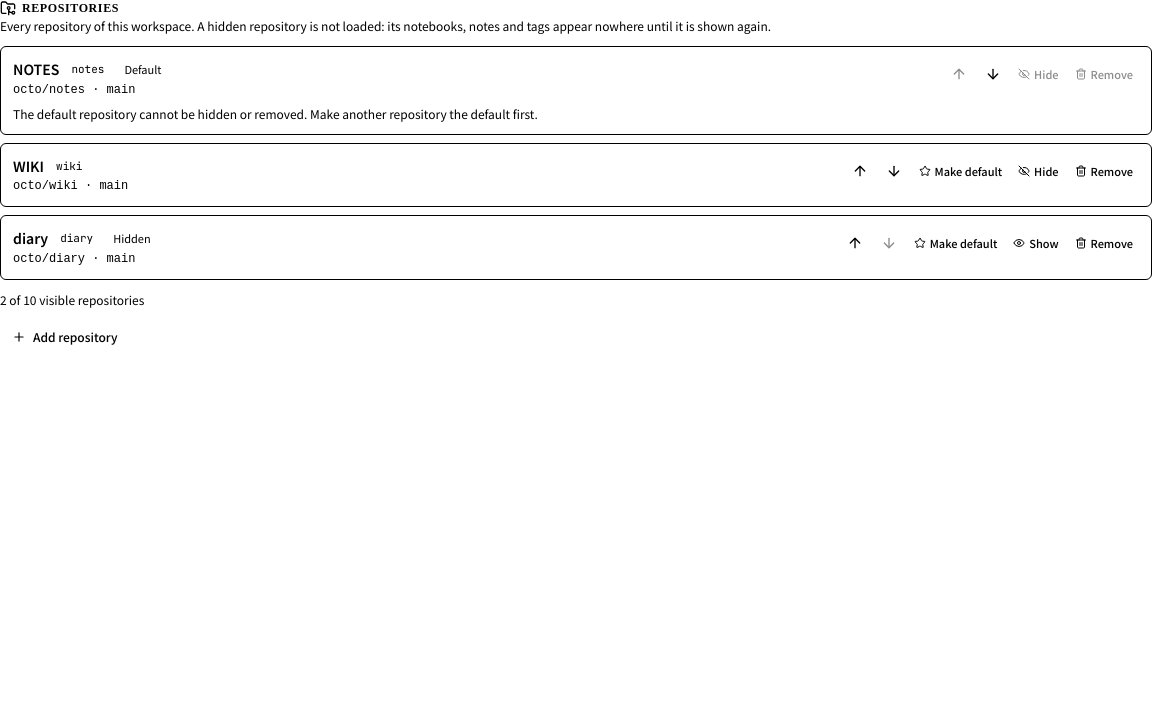
Test: a list an account keeps › adds a repository from the picker, marking members already added, and asks for a folder when its branch keeps no manifest
This screenshot has width=1152, height=720.
Expected: the text "NOTES" is shown, [13, 59, 59, 79]
Click the button "Add repository". click: (65, 336)
box: [0, 320, 129, 354]
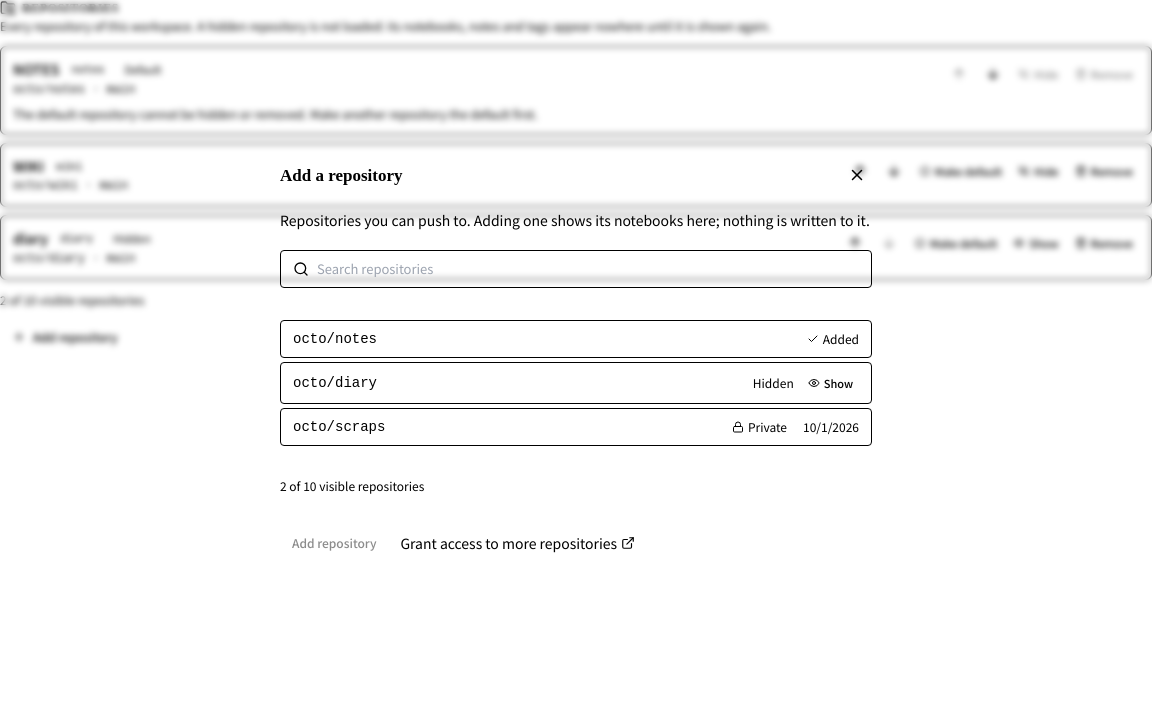
Expected: the text "octo/scraps" is shown, [293, 417, 385, 437]
Expected: the text "Added" is shown, [807, 331, 859, 347]
Expected: the button "Show" is enabled, [802, 371, 859, 395]
Click the button "octo/scraps Private 10/1/2026". click: (339, 427)
box: [280, 408, 872, 446]
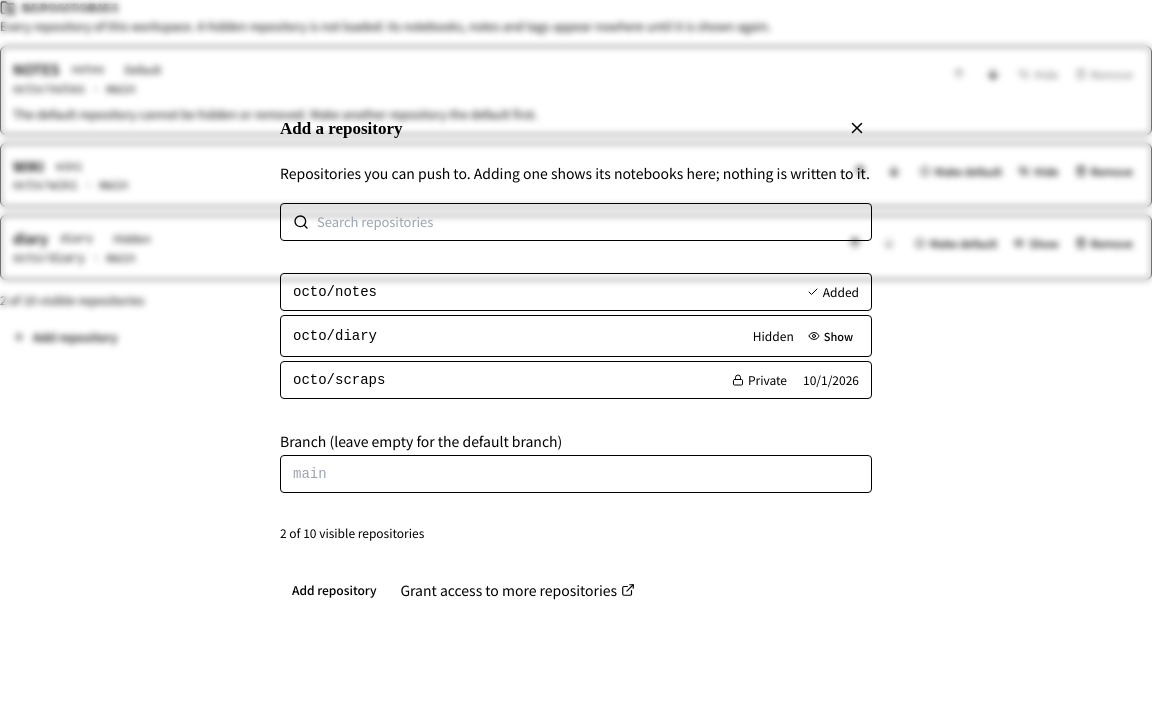
Click the button "Add repository". click: (334, 590)
box: [280, 573, 388, 607]
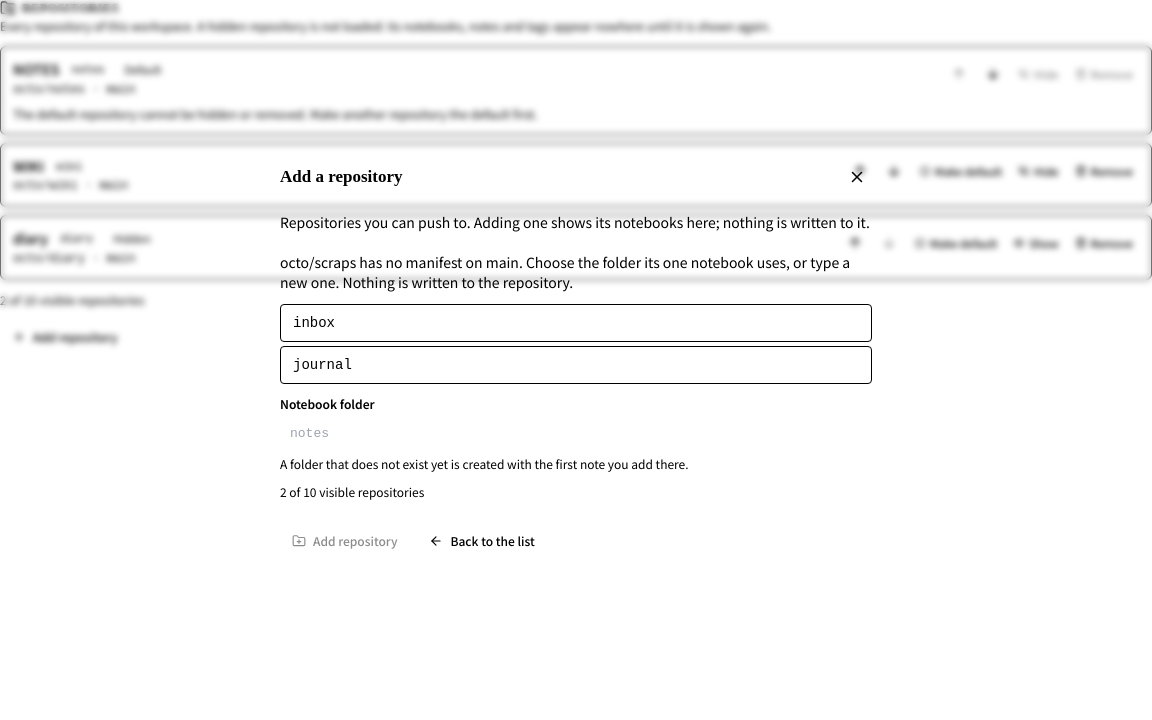
Expected: the text "octo/scraps has no manifest on main. Choose the folder its one notebook uses, or type a new one. Nothing is written to t" is shown, [280, 252, 850, 292]
Click the button "journal". click: (322, 365)
box: [280, 346, 872, 384]
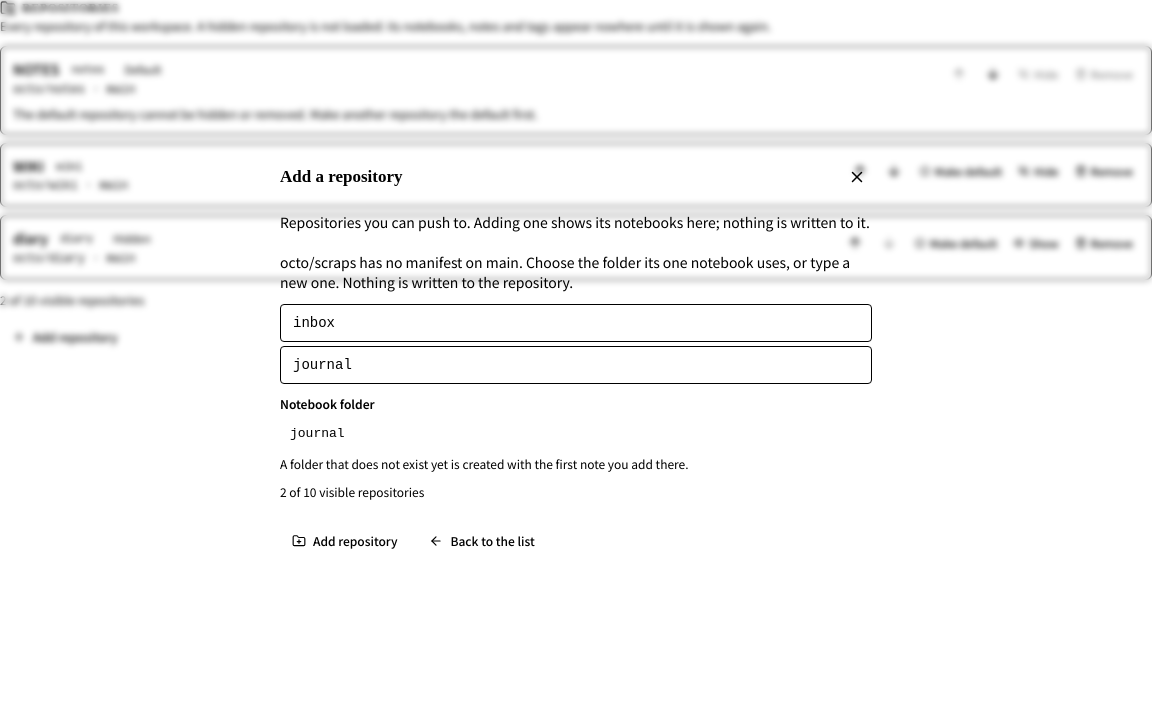
Click the button "Add repository". click: (345, 541)
box: [280, 524, 409, 558]
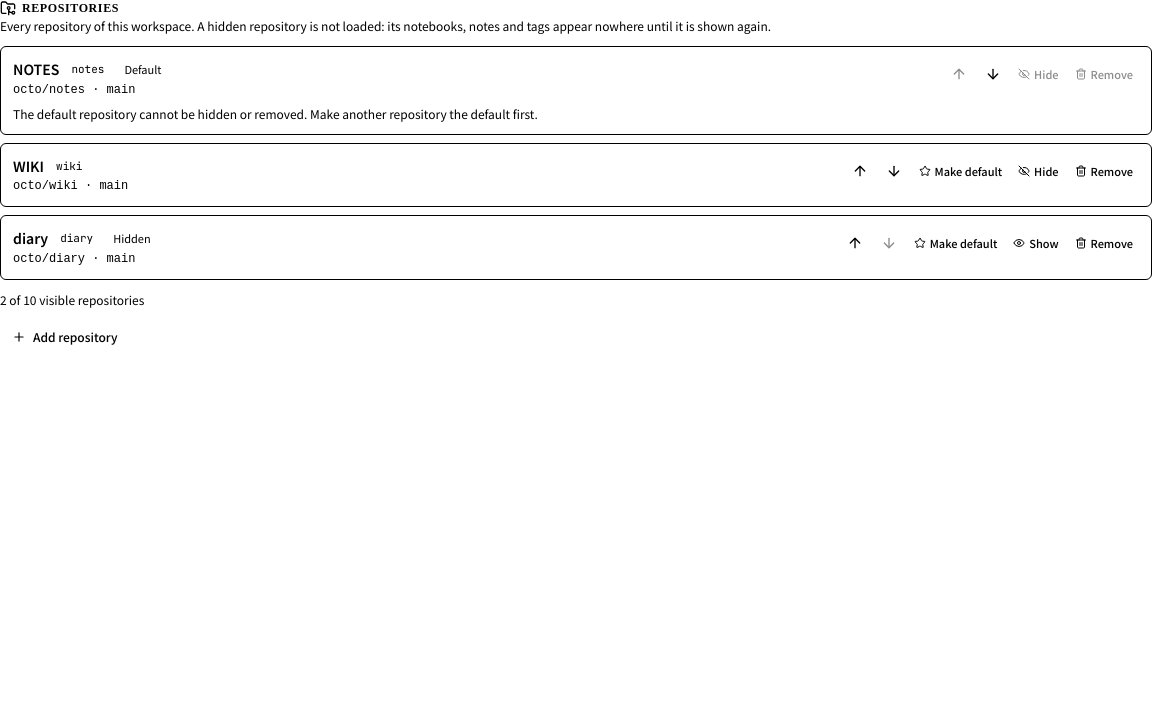
Expected: the dialog is gone
